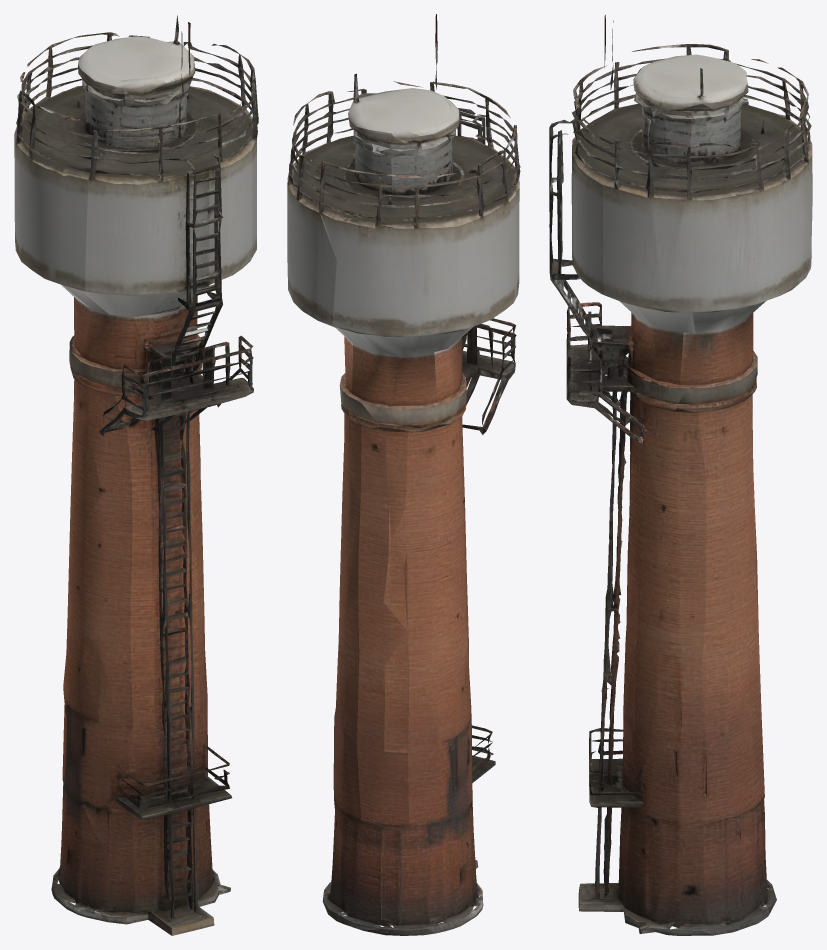
File: water_tower_brick.glb
3 views of the same model, side by side, from view 1: azimuth 30°, elevation 25°; view 2: azimuth 150°, elevation 25°; view 3: azimuth 270°, elevation 25° (orthographic). The views are drawn at different scales.
Parts seen in each view (by area): view 1: water_tower_brick; view 2: water_tower_brick; view 3: water_tower_brick.
Part boxes in pixels (x1,y1,x2,y2): water_tower_brick: (14,15,258,935); water_tower_brick: (287,14,520,935); water_tower_brick: (549,15,812,935).
Size of the model in its own units: 0.4728 by 1.87 by 0.5014.
1 material, 1 textured.
